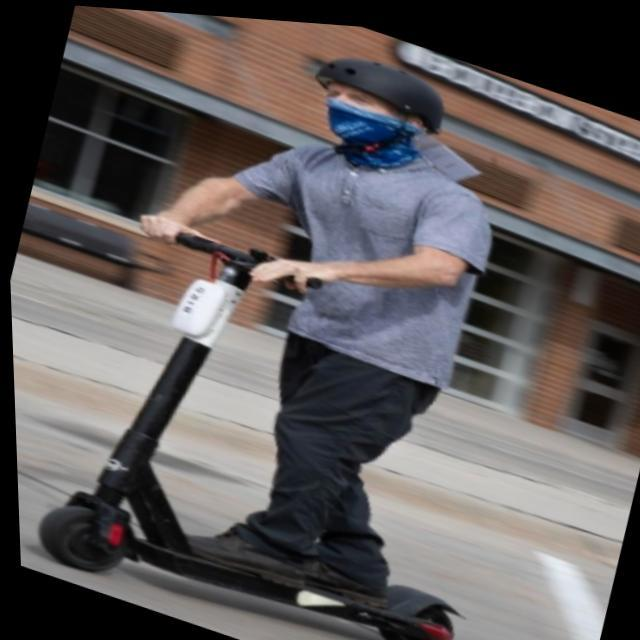Helmet: (305, 50, 451, 152)
